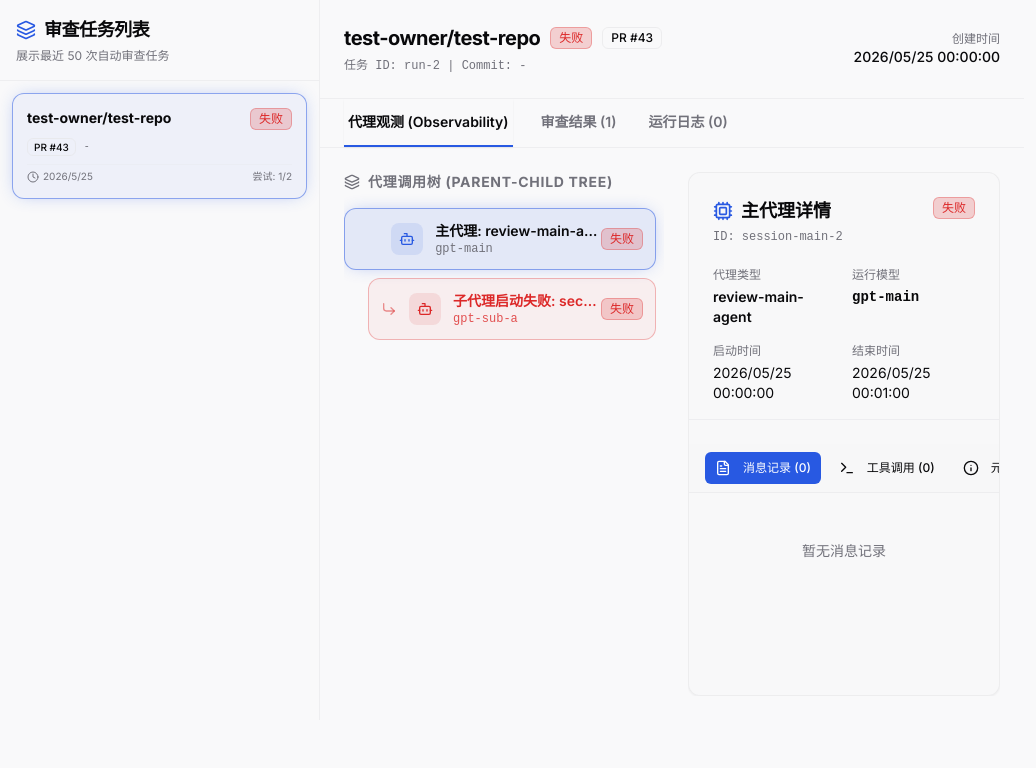
ReviewSessionsPage › Scenario 2: renders failed subagent invocation and findings correctly
Expected: the text "子代理启动失败: security-reviewer" is shown, [453,291,601,311]
Click the tab "审查结果 (1)" at (579, 123), box [537,99,620,147]
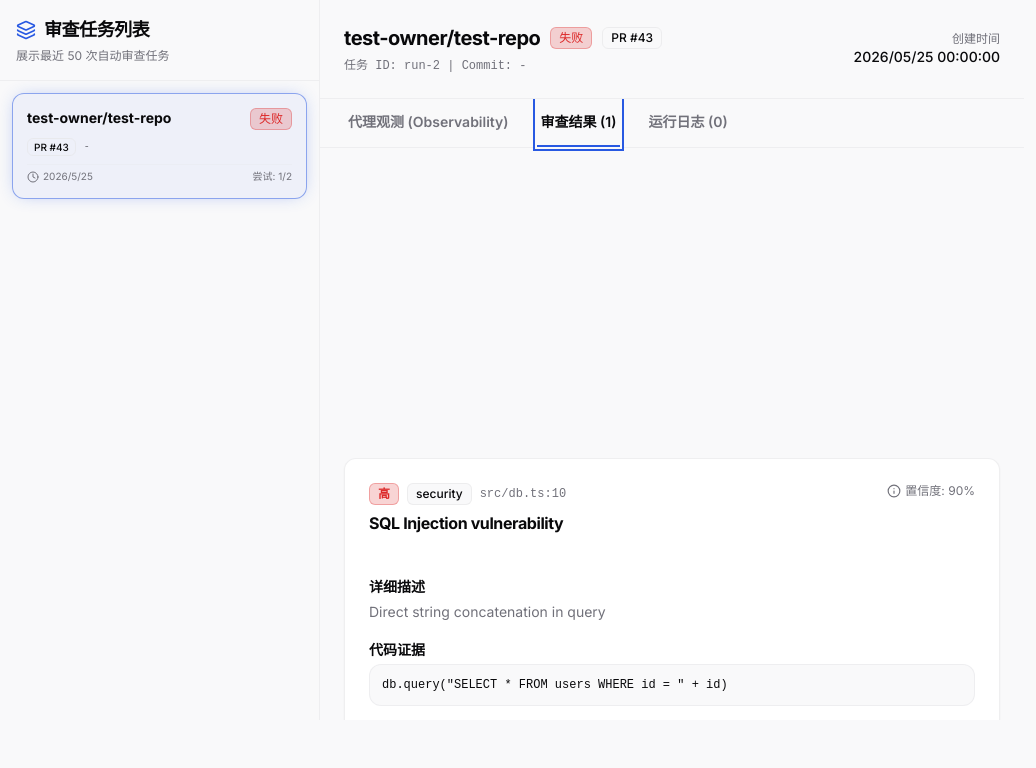
Now the text "SQL Injection vulnerability" is shown, box [369,511,566,535]
Now the text "Direct string concatenation in query" is shown, box [369,603,606,620]
